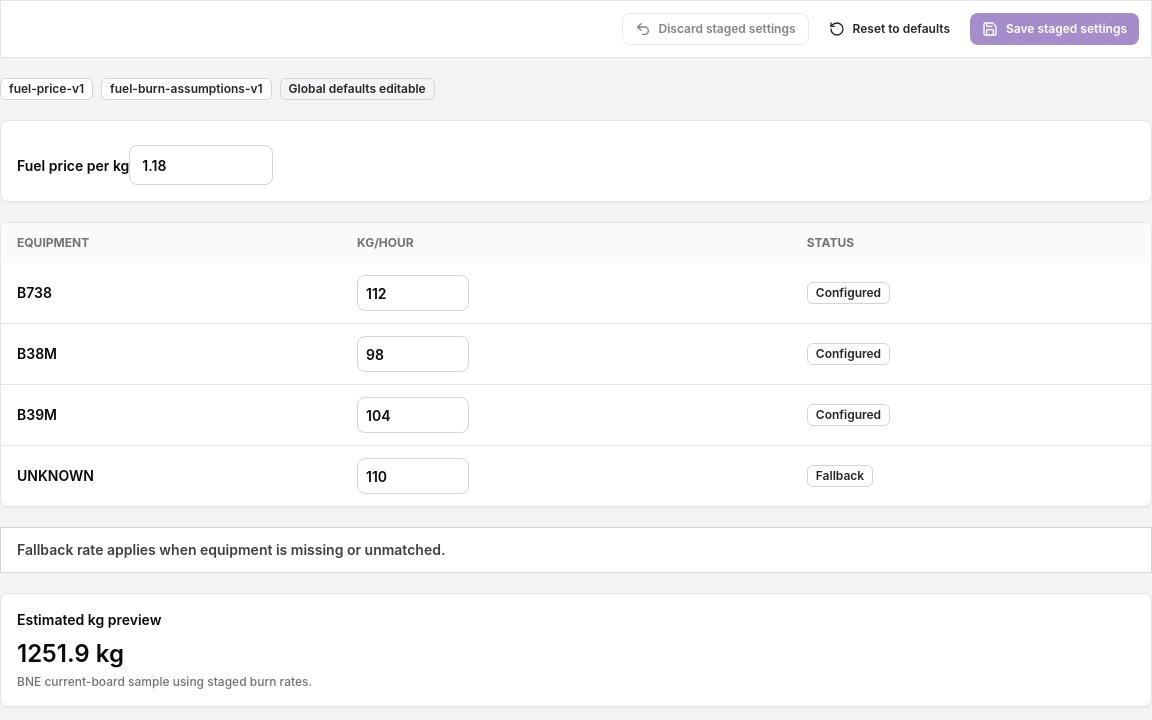
FuelSettingsPage › saves staged fuel settings and reset creates default snapshots
Replace the text in the number field labelled "Fuel price per kg" with "1.42" at point(201, 165), box [129,145,273,185]
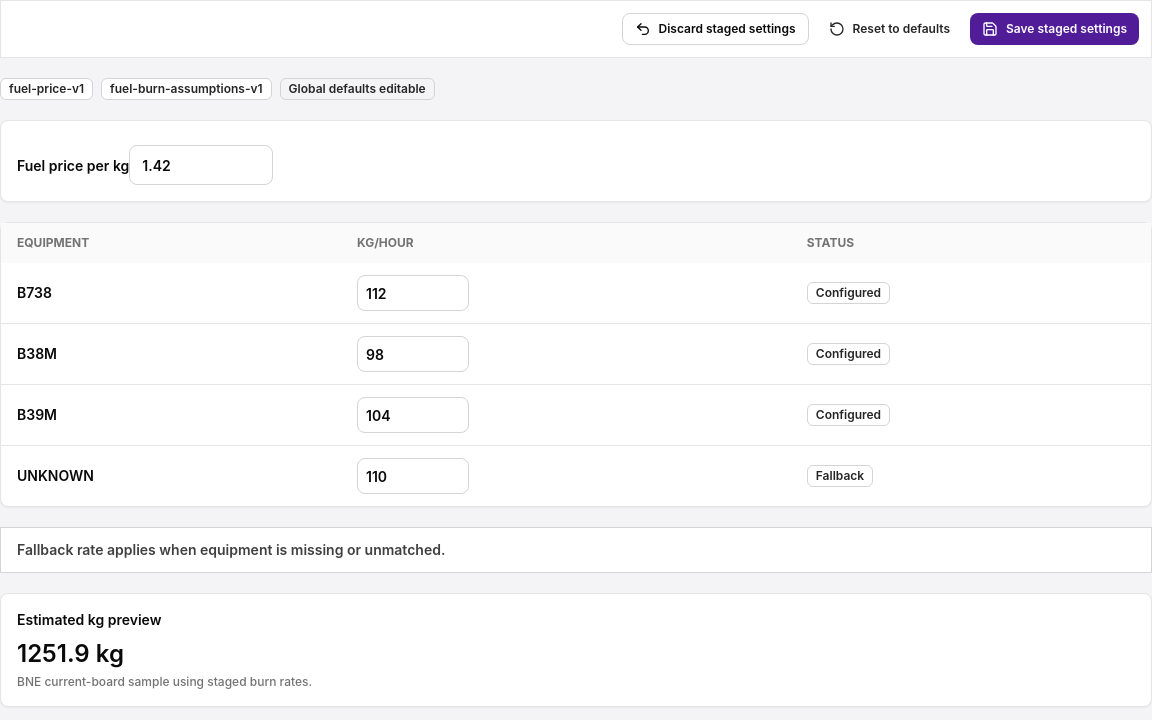
Click the button "Save staged settings" at point(1054, 29), box [970,13,1139,45]
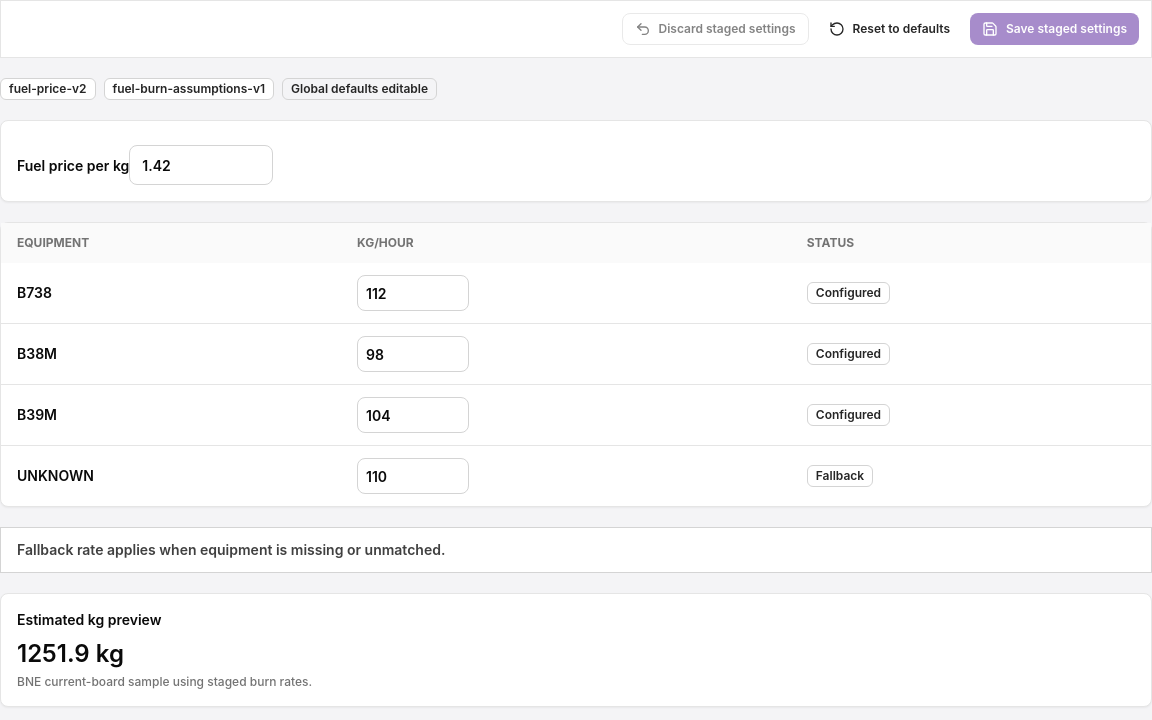
Result: the text "fuel-price-v2" is shown at [0,78,96,100]
Replace the text in the number field labelled "Fuel price per kg" with "1.70" at point(201, 165), box [129,145,273,185]
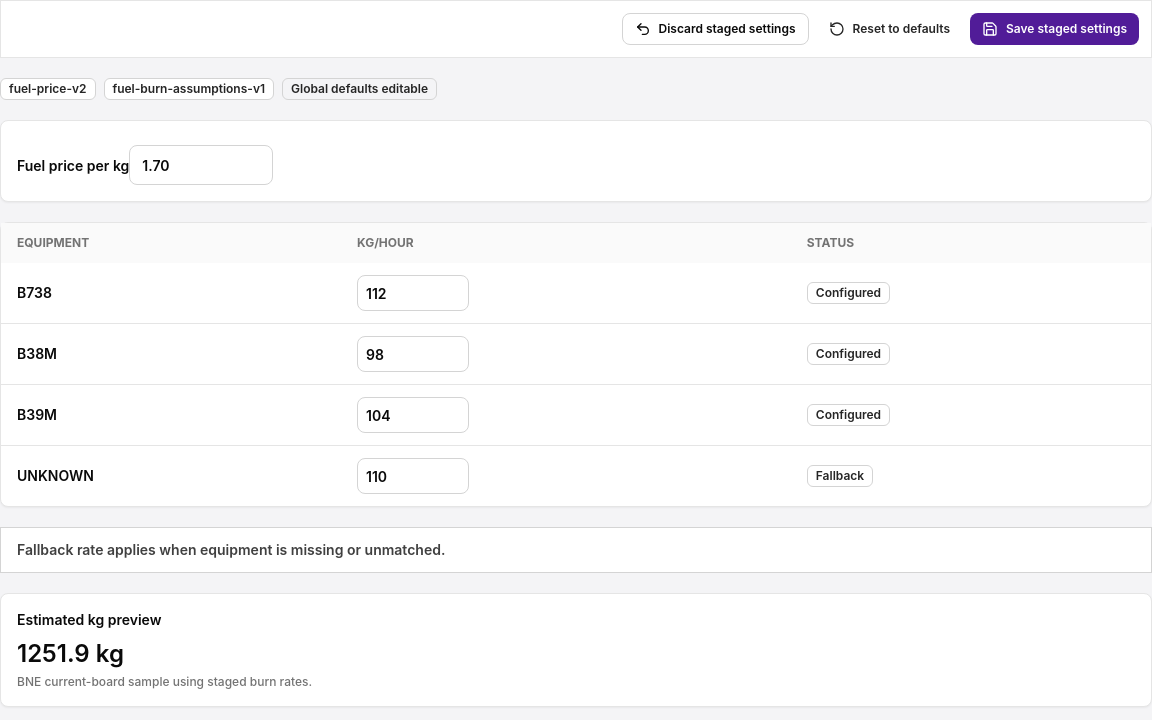
Click the button "Reset to defaults" at point(889, 29), box [816,13,962,45]
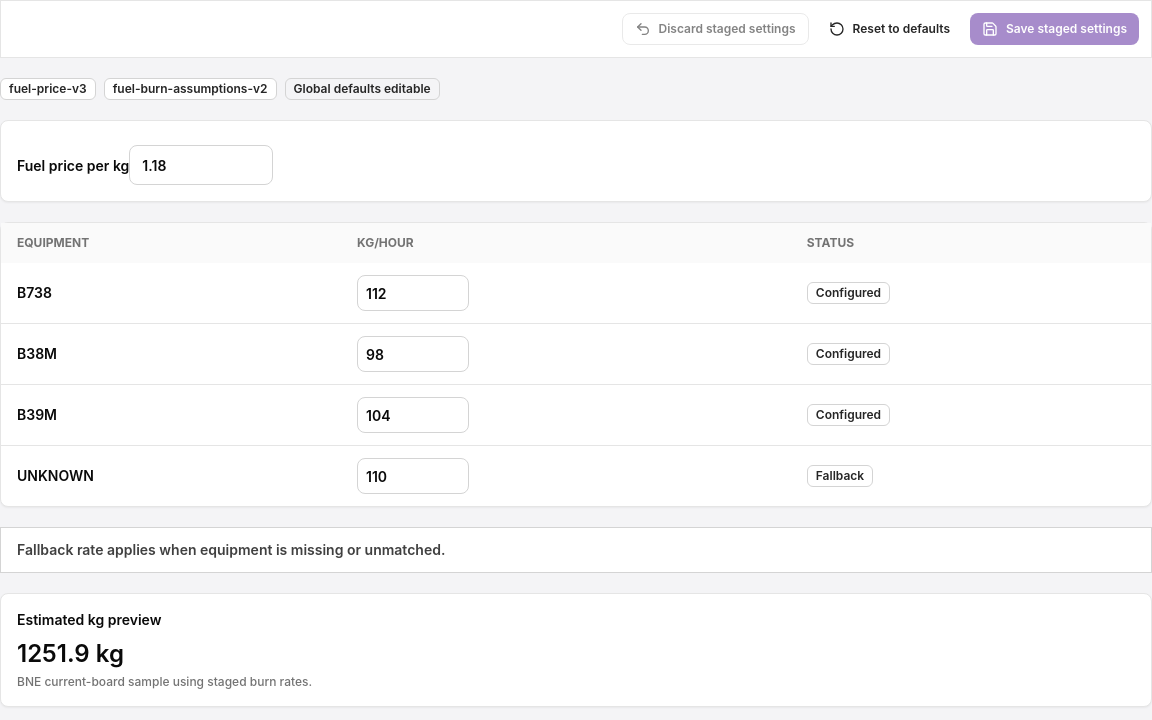
Result: the number field labelled "Fuel price per kg" holds "1.18" at [129,145,273,185]
